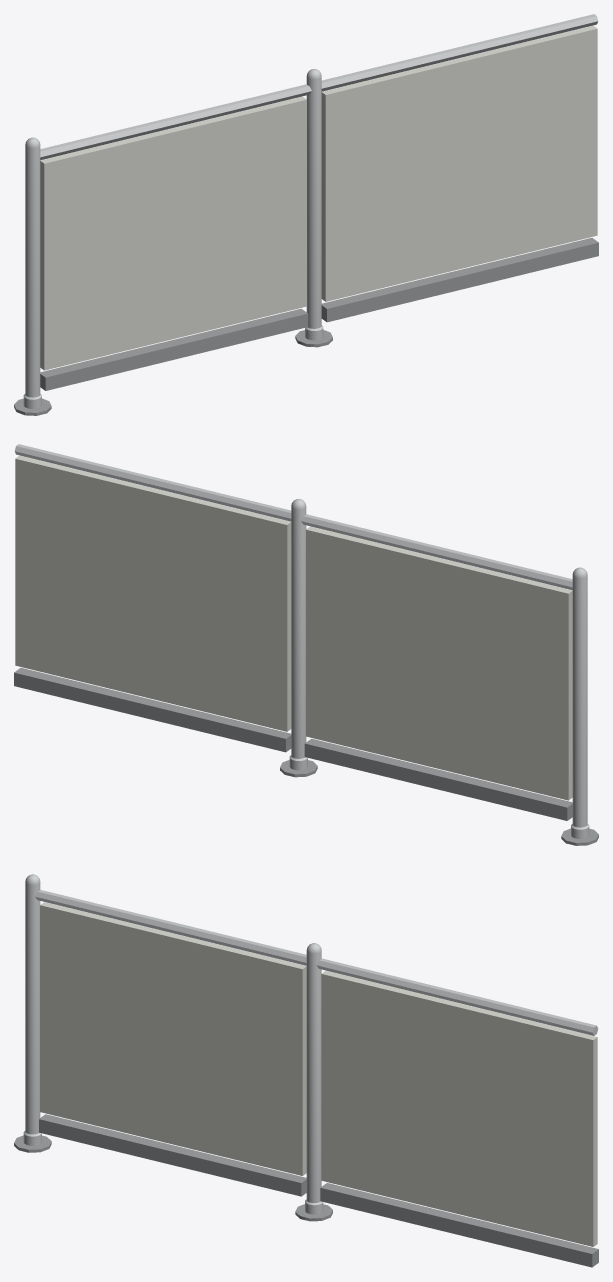
Rendered from gteki_barrier_rail_2400_solid.glb.
3 views of the same model, one above another, from view 1: azimuth 30°, elevation 25°; view 2: azimuth 150°, elevation 25°; view 3: azimuth 330°, elevation 25° (orthographic).
Parts seen in each view (by area): view 1: VIS_body; view 2: VIS_body; view 3: VIS_body.
Part boxes in pixels (x1,y1,x2,y2): VIS_body: (14,14,598,415); VIS_body: (14,444,598,845); VIS_body: (14,874,598,1267).
Size of what is drawn, in the model's own units: 2.47 by 1.1 by 0.1331.
1 material, 1 textured.
